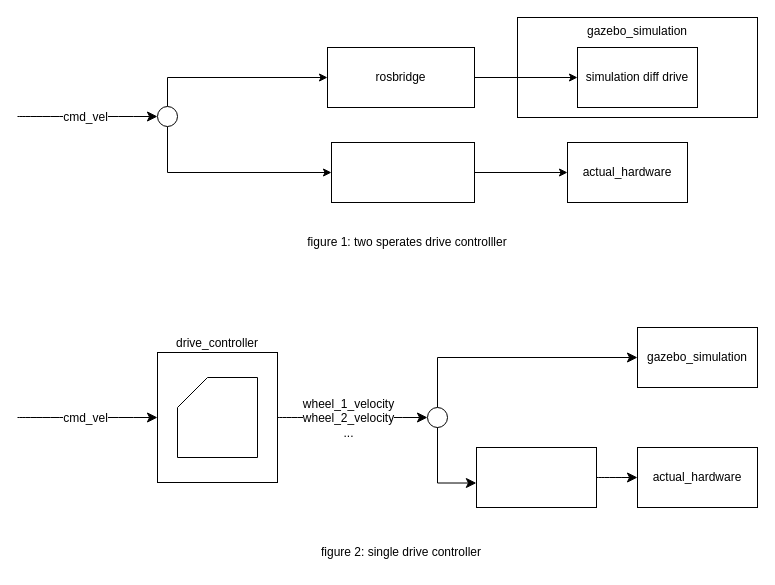
This 775x585 diagram has some shape labels left out. Here are the shapes that lost their labels. From the top down, the centre of each, then its label:
At [402,172]: "modified ros2 control differential drive".
At [217,417]: "drive kinematic script".
At [536,477]: "command_parser".
